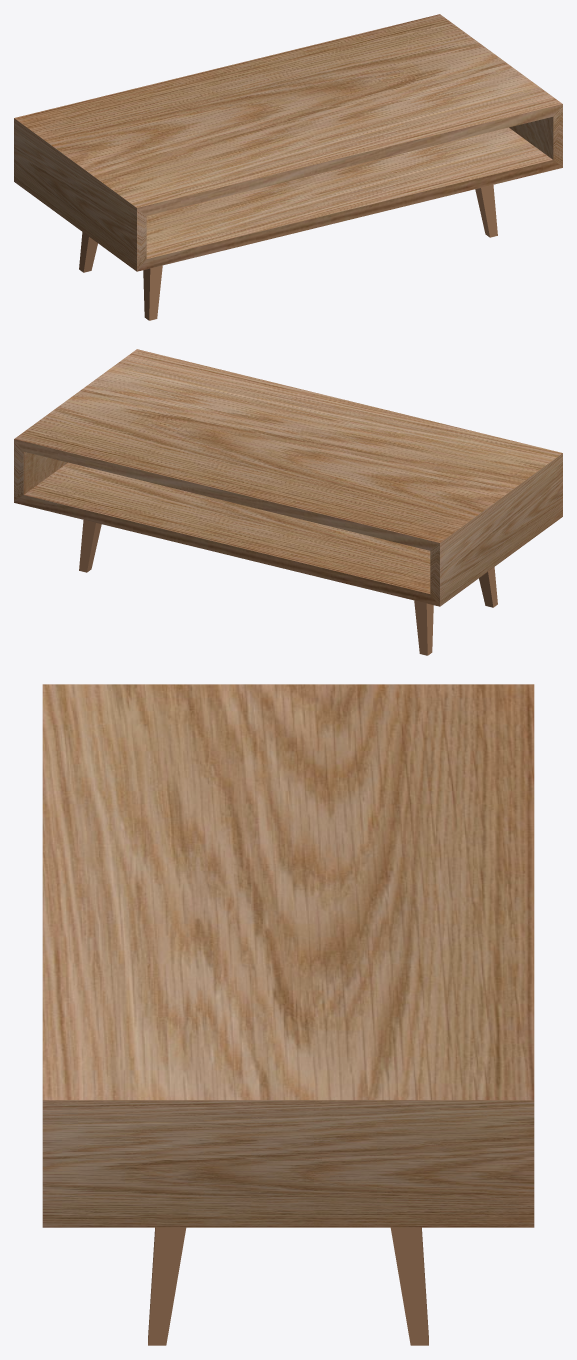
File: table.obj
The picture shows the model from 3 angles, top to bottom: view 1: azimuth 30°, elevation 25°; view 2: azimuth 150°, elevation 25°; view 3: azimuth 270°, elevation 25°; orthographic projection. The views are drawn at different scales.
Parts seen in each view (by area): view 1: table.1; view 2: table.1; view 3: table.1.
Part boxes in pixels (left/top/right/bottom): table.1: left=14, top=14, right=562, bottom=320; table.1: left=14, top=349, right=562, bottom=655; table.1: left=42, top=684, right=534, bottom=1345.
Bounding box in the file's own units: 140 × 44.44 × 70.
Materials: 1 (1 with a texture image).
